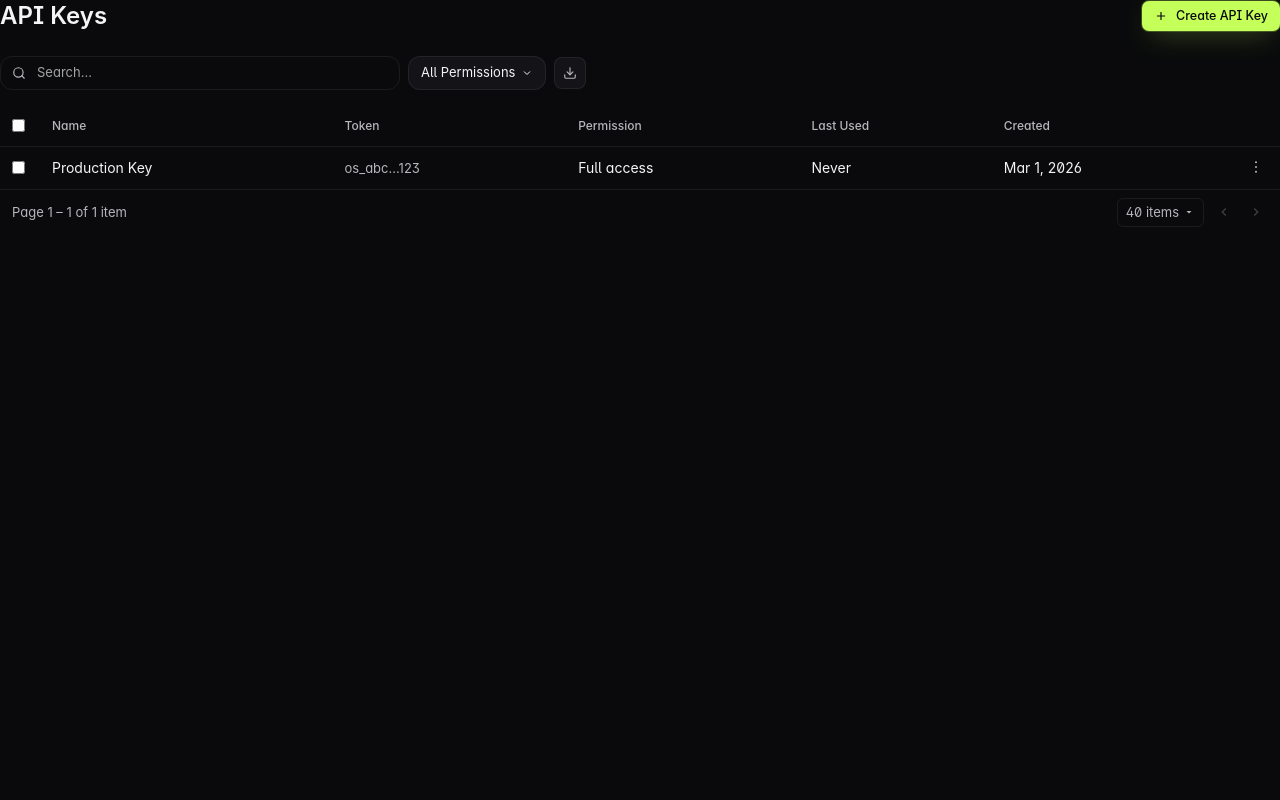
Create API Key Modal — feature-031 › Add button becomes enabled when name is entered
Click the button "Create API Key" at (1211, 16), box [1142, 1, 1279, 31]
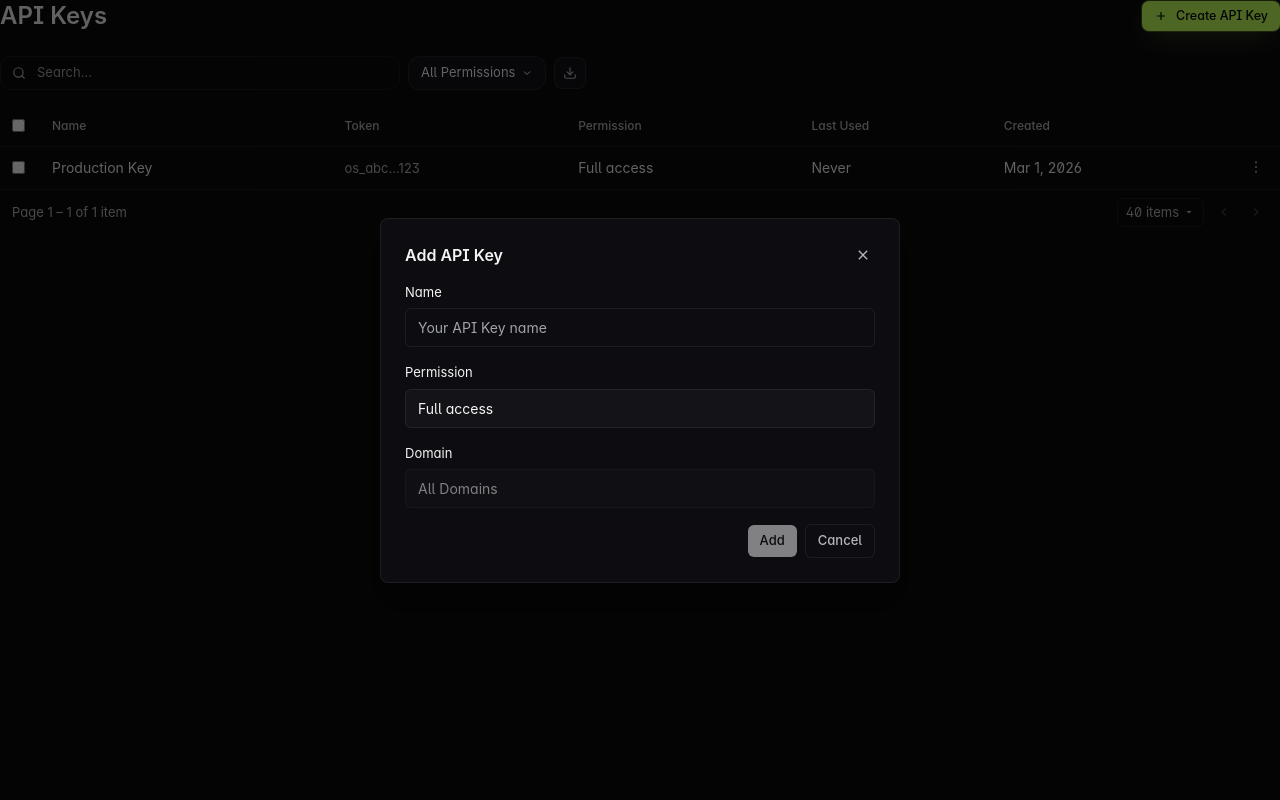
Type "My Key" into the field with placeholder "Your API Key name" at (640, 328), box [405, 308, 875, 347]
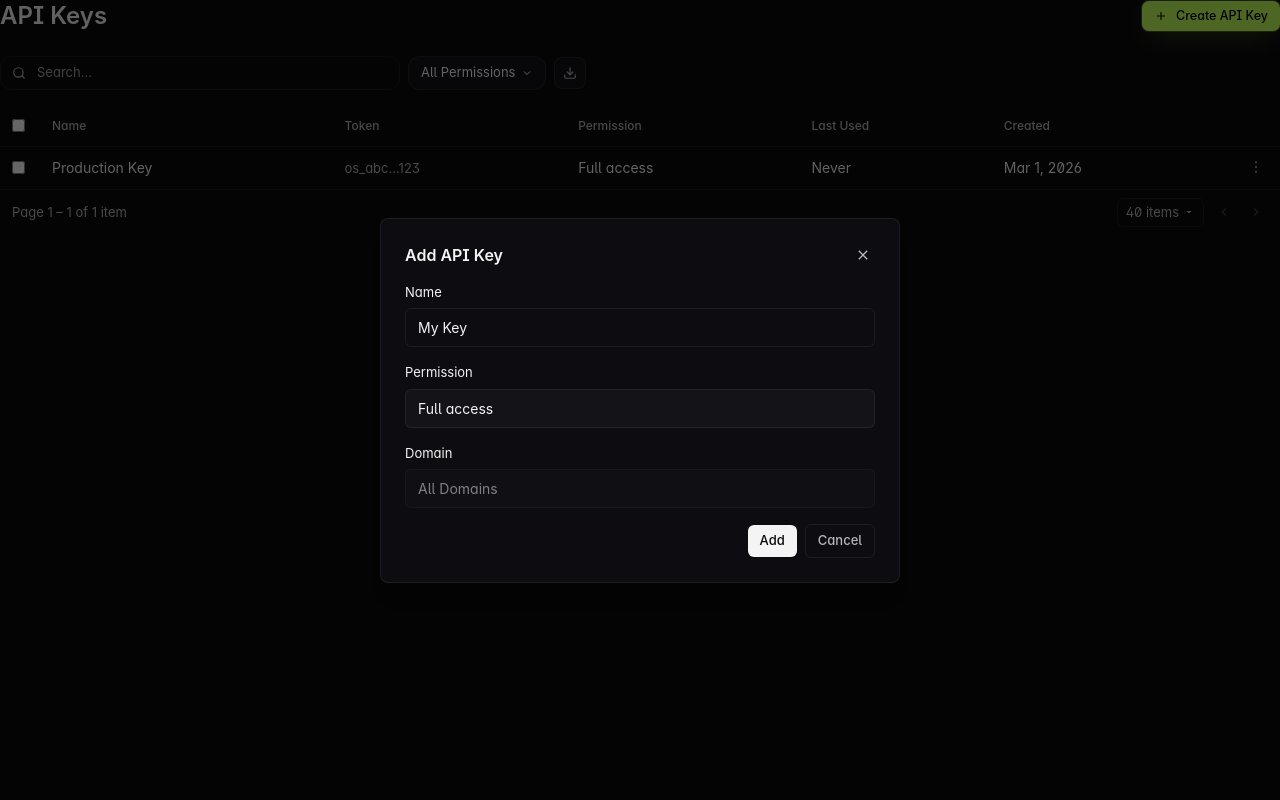
Result: the button "Add" is enabled at [748, 525, 797, 556]
